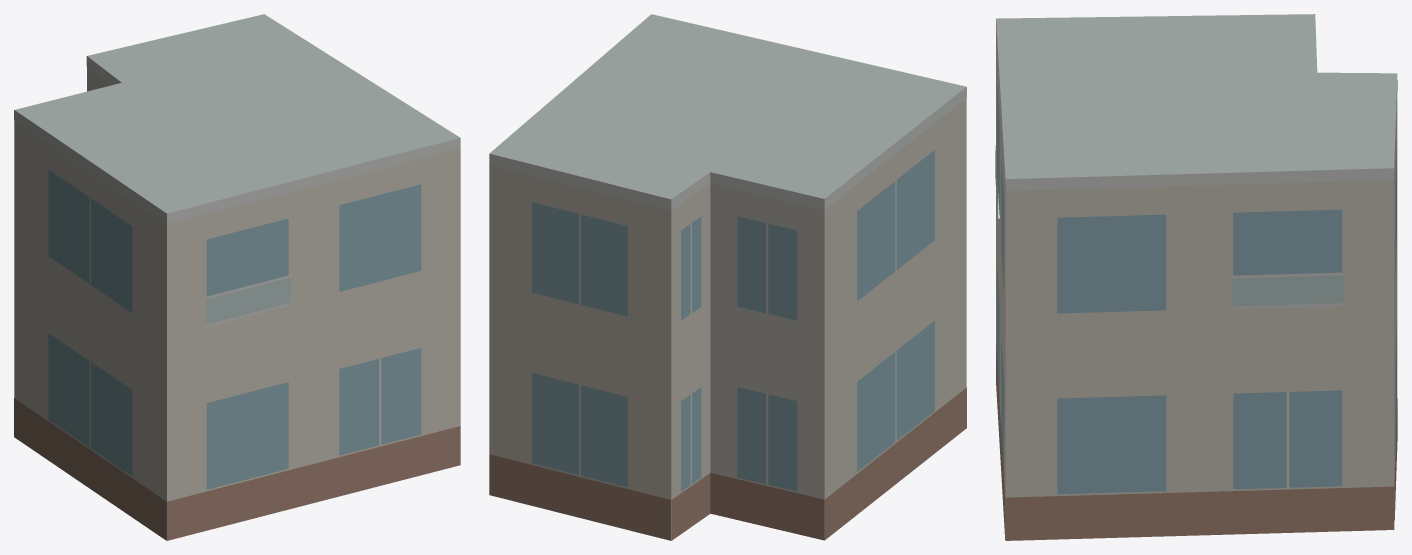
Rendered from survey-upis-32625446.glb.
3 renders of one model, left to right at view 1: azimuth 30°, elevation 25°; view 2: azimuth 150°, elevation 25°; view 3: azimuth 270°, elevation 25°, orthographic. The views are drawn at different scales.
Visible parts, largest first — view 1: survey-upis-32625446.tmp; view 2: survey-upis-32625446.tmp; view 3: survey-upis-32625446.tmp.
Boxes of the visible parts, x1=… form: survey-upis-32625446.tmp: x1=14, y1=14, x2=460, y2=540; survey-upis-32625446.tmp: x1=489, y1=14, x2=966, y2=540; survey-upis-32625446.tmp: x1=995, y1=14, x2=1397, y2=540.
Bounding box in the file's own units: 7.45 × 7.6 × 7.66.
